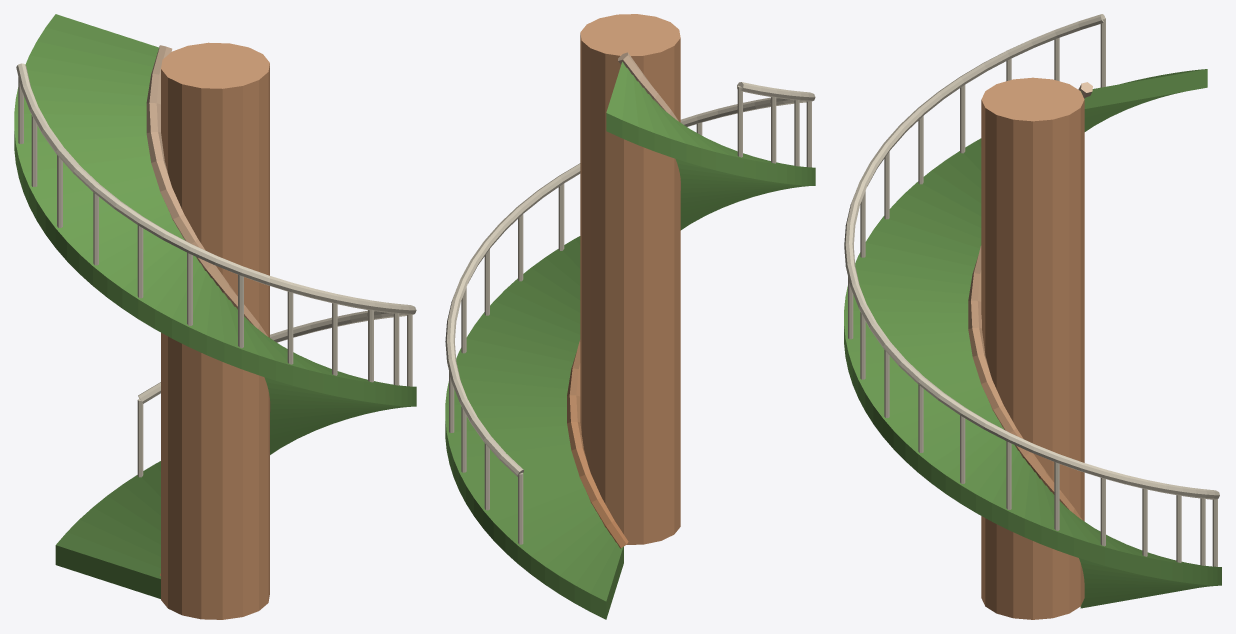
Rendered from goo_jar_stair@garden.fbx.
3 views of the same model, side by side, from view 1: azimuth 30°, elevation 25°; view 2: azimuth 150°, elevation 25°; view 3: azimuth 270°, elevation 25° (orthographic). The views are drawn at different scales.
Parts seen in each view (by area): view 1: goo_jar_stair; view 2: goo_jar_stair; view 3: goo_jar_stair.
Boxes of the visible parts, x1,y1,x2,y2 form: goo_jar_stair: (14, 14, 416, 619); goo_jar_stair: (445, 14, 815, 619); goo_jar_stair: (844, 14, 1221, 619).
Size of the model in its own units: 10.99 by 17.03 by 10.99.
